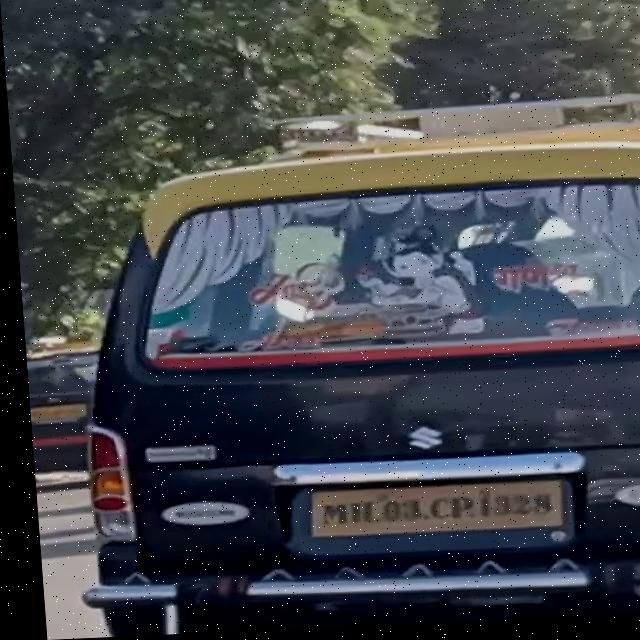plate: (295, 479, 564, 546)
